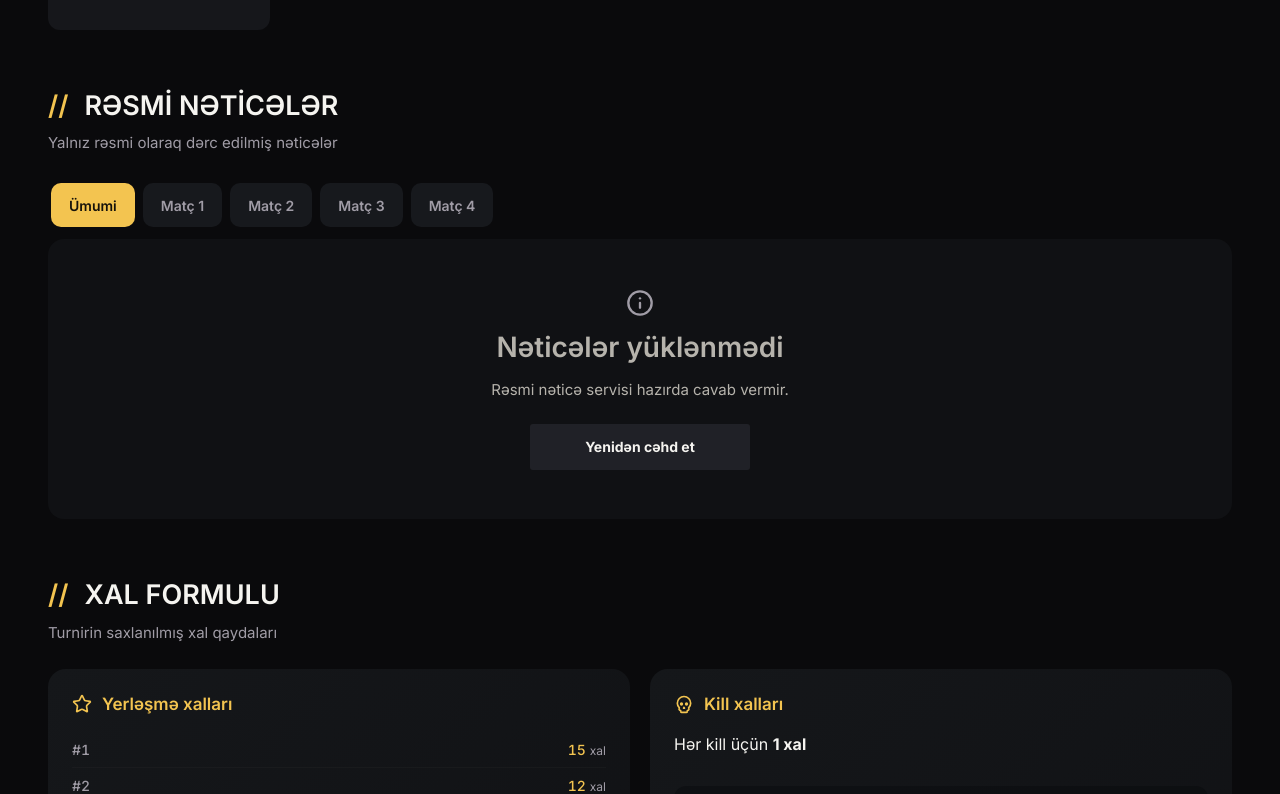
it: preserves a real service failure and allows recovery without reloading the page
(page scrolled)
Expected: the heading "Nəticələr yüklənmədi" is shown, [496, 329, 784, 366]
Click the button "Yenidən cəhd et" at (640, 447), box [530, 424, 750, 470]
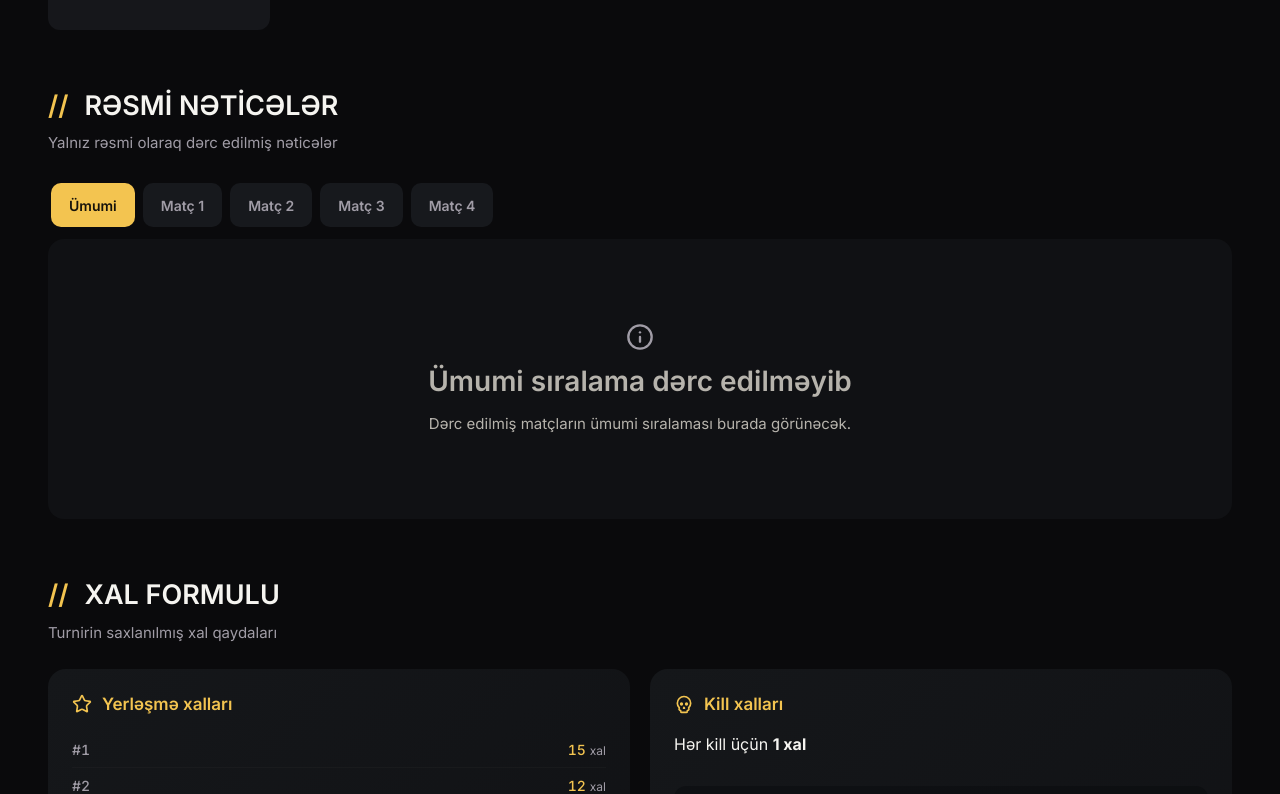
Now the heading "Ümumi sıralama dərc edilməyib" is shown, box [428, 363, 852, 400]
